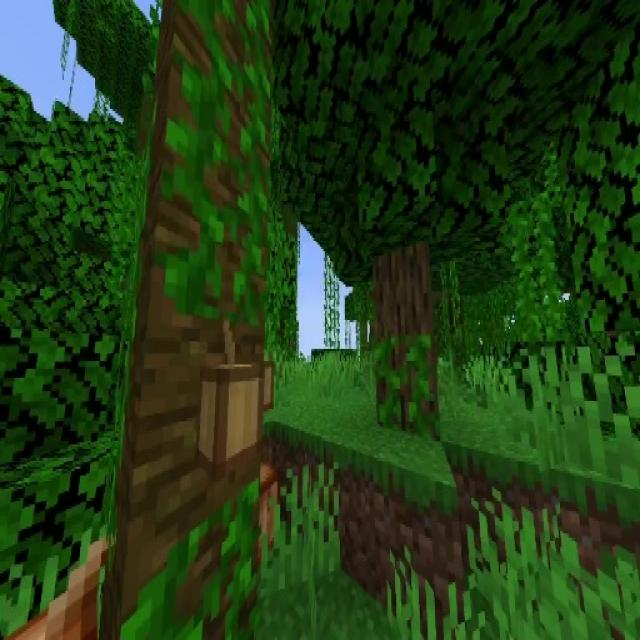jungle_log: (108, 0, 280, 640)
oak_log: (372, 258, 434, 431)
